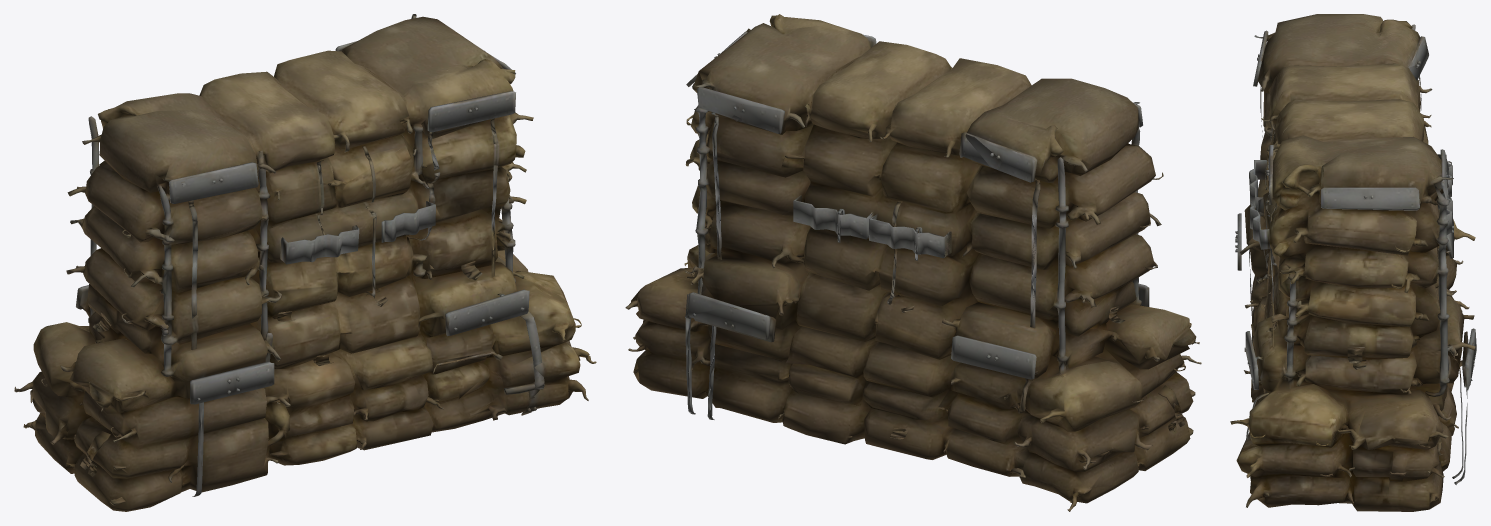
The model's file is ch5_meridian_cover_barricade_LOD0.glb.
3 renders of one model, left to right at view 1: azimuth 30°, elevation 25°; view 2: azimuth 150°, elevation 25°; view 3: azimuth 270°, elevation 25°, orthographic. The views are drawn at different scales.
Parts seen in each view (by area): view 1: tripo_node_fae5ff56-c19d-4cb0-980b-bed445a09fcc; view 2: tripo_node_fae5ff56-c19d-4cb0-980b-bed445a09fcc; view 3: tripo_node_fae5ff56-c19d-4cb0-980b-bed445a09fcc.
Boxes of the visible parts, x1,y1,x2,y2 form: tripo_node_fae5ff56-c19d-4cb0-980b-bed445a09fcc: (14, 14, 596, 511); tripo_node_fae5ff56-c19d-4cb0-980b-bed445a09fcc: (625, 14, 1201, 511); tripo_node_fae5ff56-c19d-4cb0-980b-bed445a09fcc: (1230, 14, 1476, 511).
Size of the model in its own units: 0.998 by 0.6816 by 0.4668.
1 material, 1 textured.
